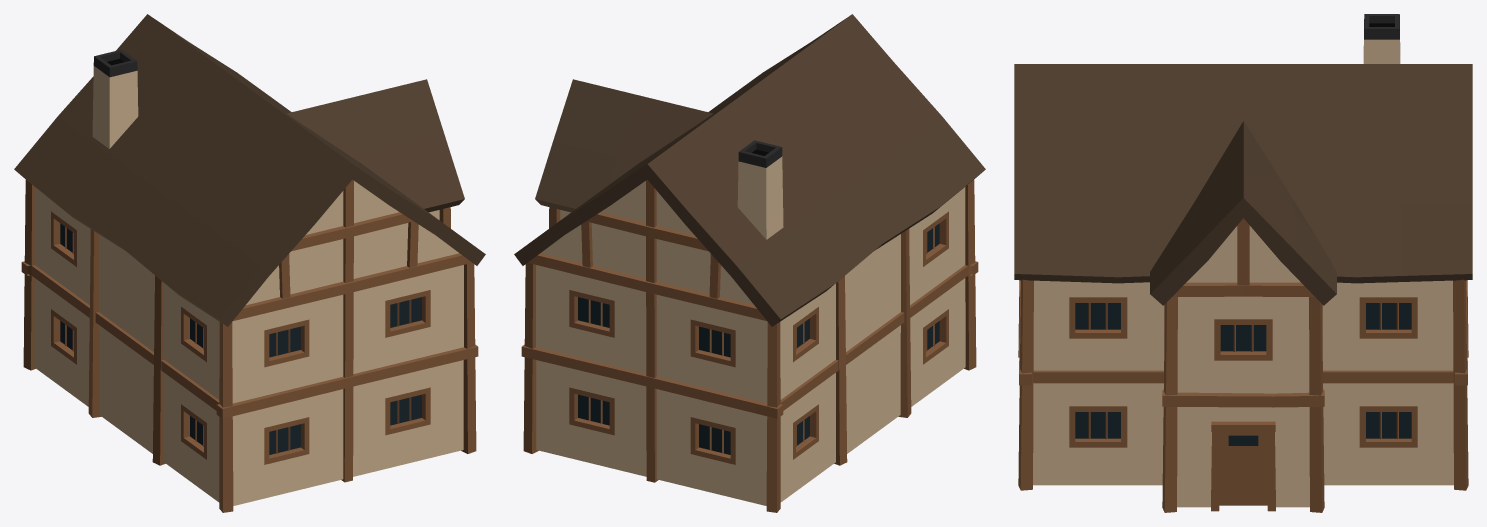
The model's file is house-medieval-big.glb.
3 renders of one model, left to right at view 1: azimuth 30°, elevation 25°; view 2: azimuth 150°, elevation 25°; view 3: azimuth 270°, elevation 25°, orthographic. The views are drawn at different scales.
Parts seen in each view (by area): view 1: house-medieval_big; view 2: house-medieval_big; view 3: house-medieval_big.
Boxes of the visible parts, x1,y1,x2,y2 form: house-medieval_big: (14,14,485,512); house-medieval_big: (514,14,985,512); house-medieval_big: (1014,14,1472,512).
Bounding box in the file's own units: 8.17 × 8.06 × 9.28.
Materials: 1 (1 with a texture image).
